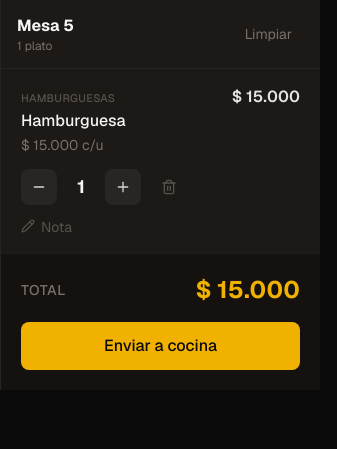
Test: OrderSummary — notes › opens notes editor on click
Click the button "Nota" at {"x": 46, "y": 227}, box left=21, top=217, right=72, bottom=237
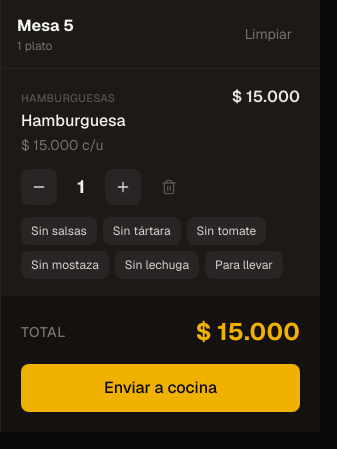
Expected: the button "Sin salsas" is shown, left=21, top=217, right=97, bottom=245
Expected: the button "Sin lechuga" is shown, left=115, top=251, right=199, bottom=279
Expected: the button "Sin tártara" is shown, left=103, top=217, right=180, bottom=245
